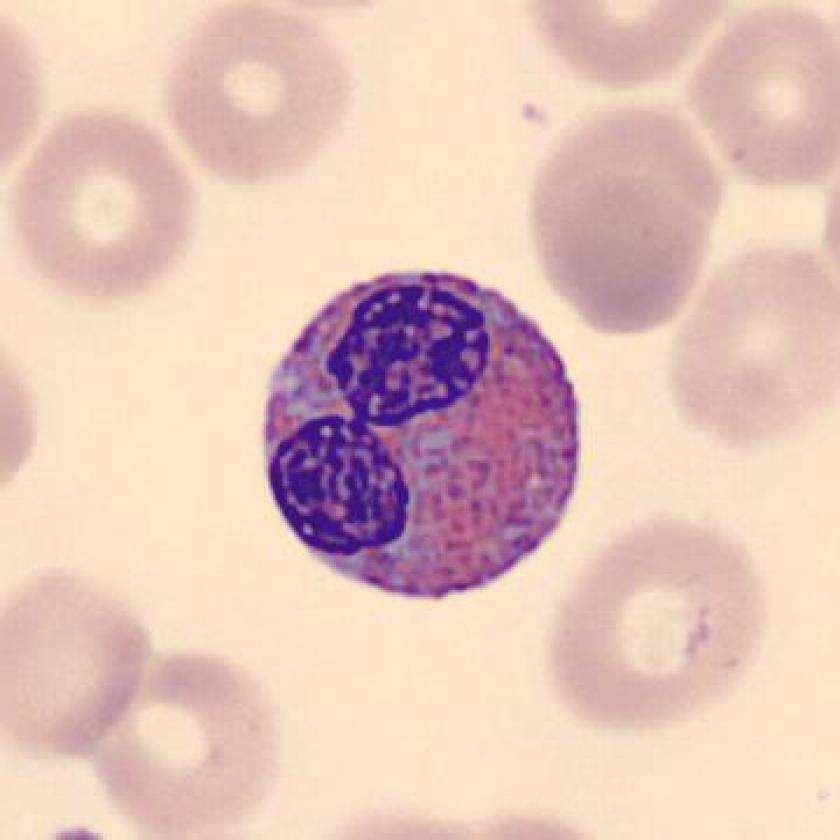eosinophil: (246, 258, 596, 616)
